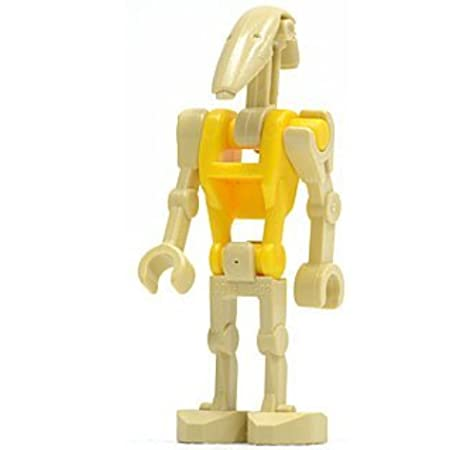Lego: (132, 5, 350, 443)
